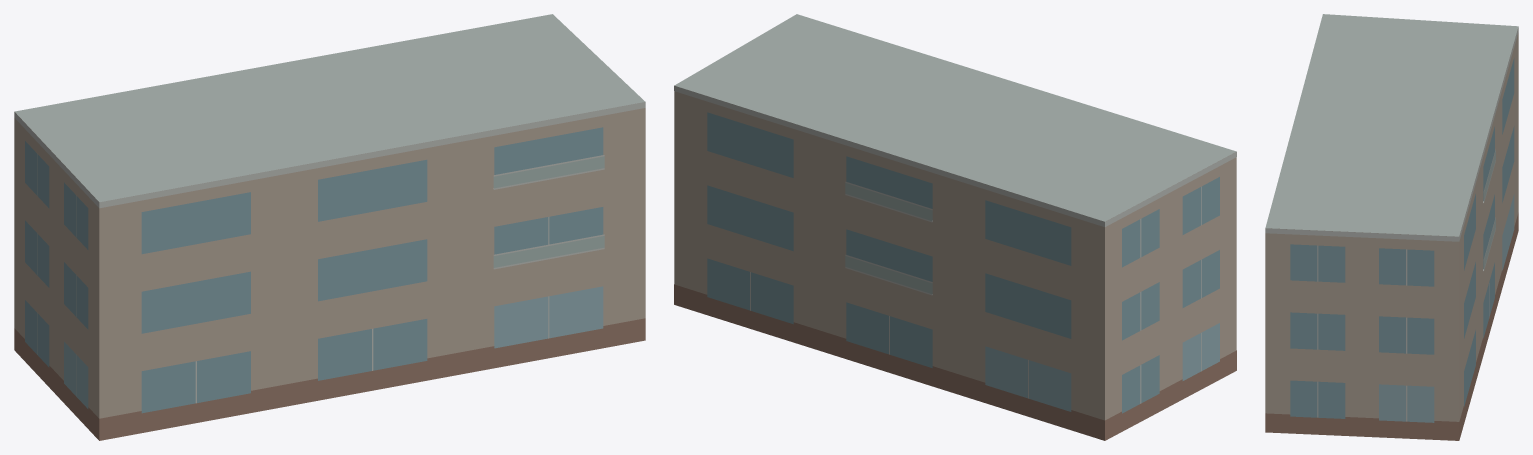
Rendered from survey-upis-32956047.glb.
The picture shows the model from 3 angles, left to right: view 1: azimuth 30°, elevation 25°; view 2: azimuth 150°, elevation 25°; view 3: azimuth 270°, elevation 25°; orthographic projection. The views are drawn at different scales.
Parts seen in each view (by area): view 1: survey-upis-32956047.tmp; view 2: survey-upis-32956047.tmp; view 3: survey-upis-32956047.tmp.
Boxes of the visible parts, left/top/right/bottom form: survey-upis-32956047.tmp: left=14, top=14, right=645, bottom=440; survey-upis-32956047.tmp: left=674, top=14, right=1236, bottom=440; survey-upis-32956047.tmp: left=1265, top=14, right=1518, bottom=440.
Size of the model in its own units: 22.69 by 9.7 by 10.91.
